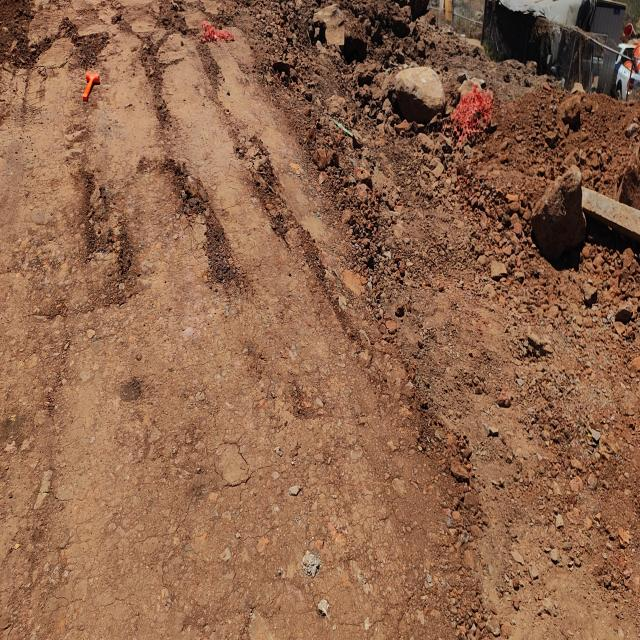Orange_hammer: (82, 70, 100, 102)
